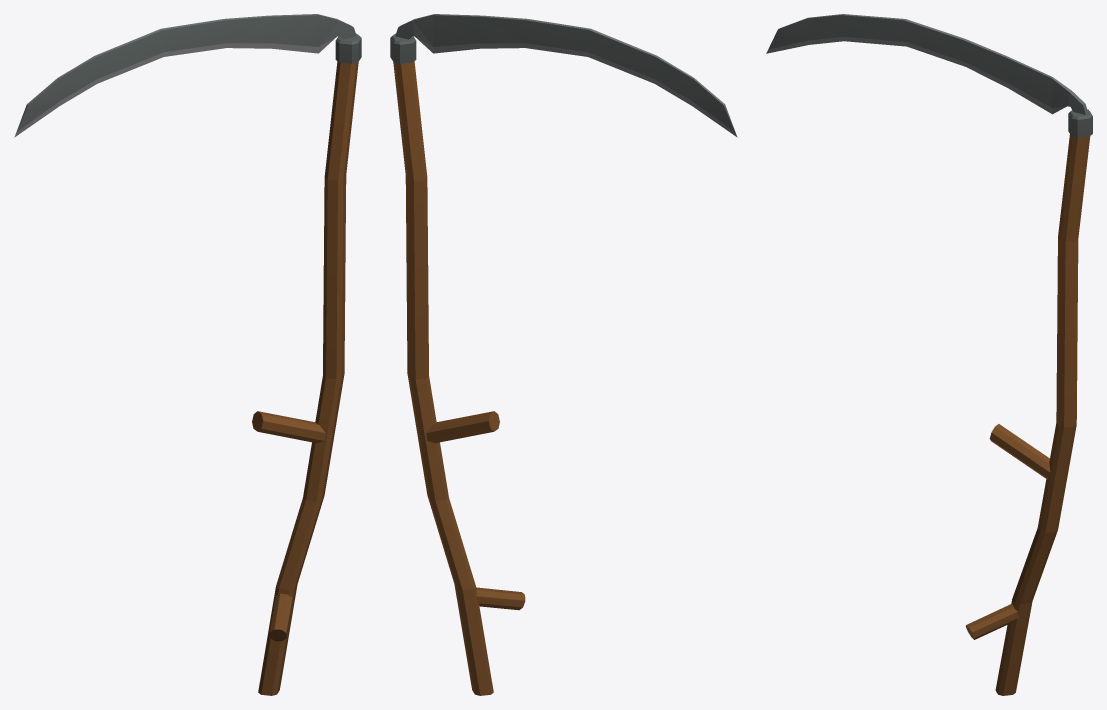
File: Tool_Scythe_01.obj
3 views of the same model, side by side, from view 1: azimuth 30°, elevation 25°; view 2: azimuth 150°, elevation 25°; view 3: azimuth 330°, elevation 25° (orthographic). The views are drawn at different scales.
Parts seen in each view (by area): view 1: Tool_Scythe_01; view 2: Tool_Scythe_01; view 3: Tool_Scythe_01.
Part boxes in pixels (x1,y1,x2,y2): Tool_Scythe_01: [14, 14, 361, 695]; Tool_Scythe_01: [390, 14, 737, 695]; Tool_Scythe_01: [766, 14, 1092, 695].
Bounding box in the file's own units: 0.868 × 1.65 × 0.1431.
1 material, 1 textured.
